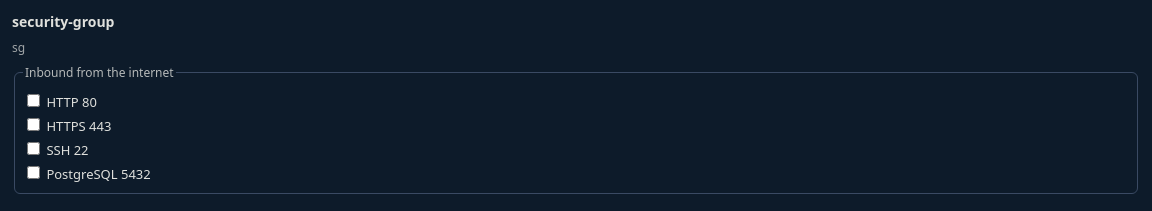
Test: play loop integration › solves The Locked Door by toggling the security group's 443 port
Expected: the text "solved" is not shown
Click the checkbox labelled "HTTPS 443" at (34, 124), box [27, 118, 40, 131]
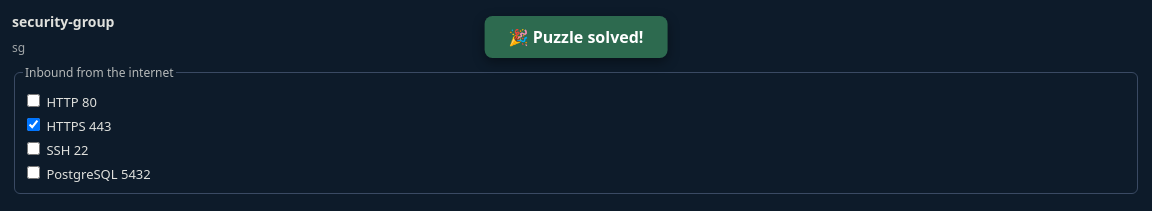
Expected: the text "🎉 Puzzle solved!" is shown, [485, 16, 667, 58]
